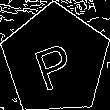P_N: (31, 30, 80, 90)
